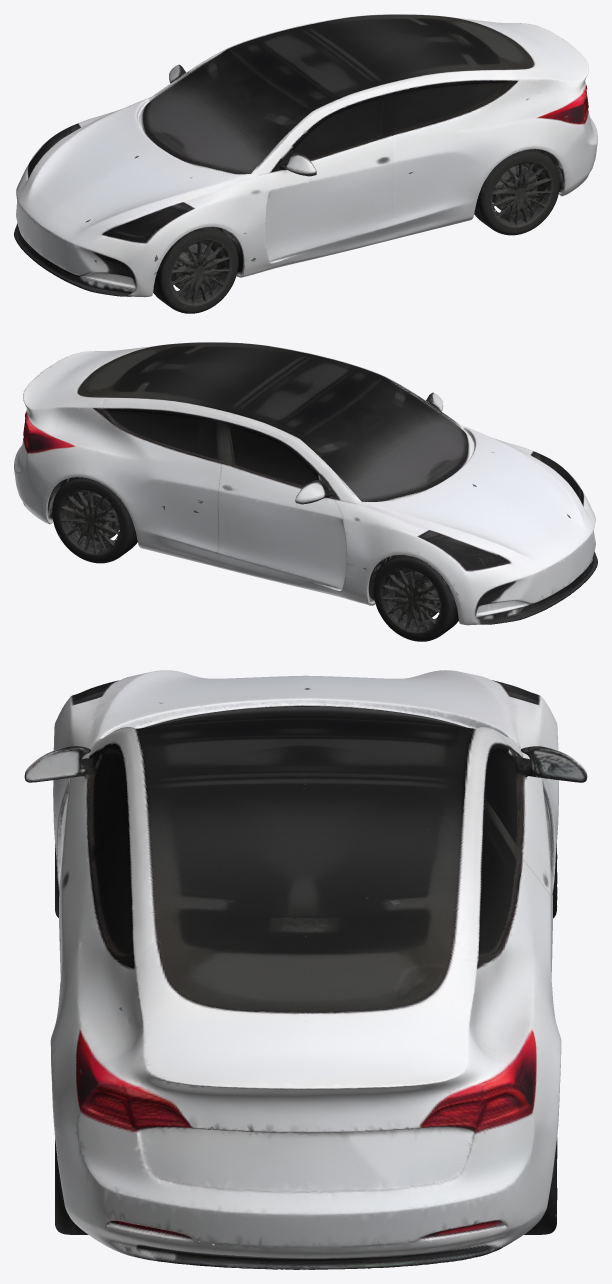
The model's file is Meshy_AI_Top_View_of_a_White_C_0317032649_texture.glb.
3 renders of one model, top to bottom at view 1: azimuth 30°, elevation 25°; view 2: azimuth 150°, elevation 25°; view 3: azimuth 270°, elevation 25°, orthographic. The views are drawn at different scales.
Size of the model in its own units: 1.9 by 0.5664 by 0.8691.
1 material, 1 textured.
